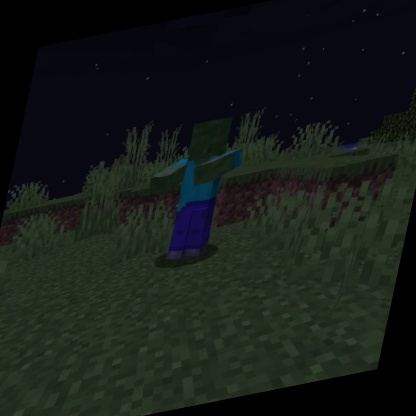zombie: (126, 107, 258, 276)
